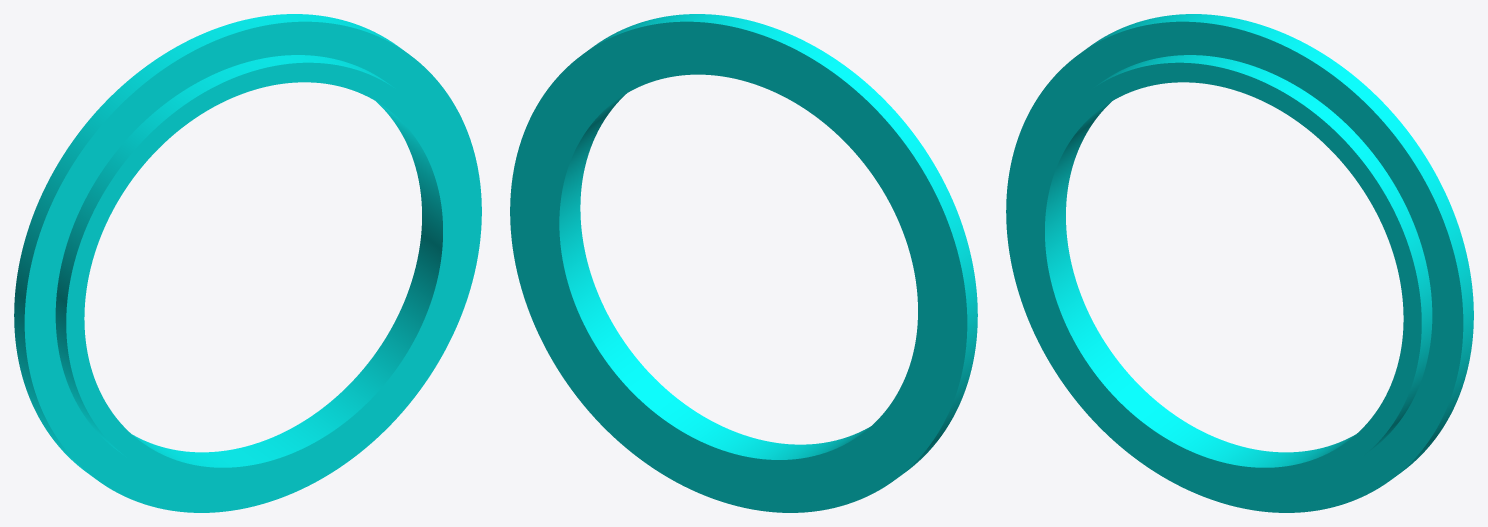
File: V5_One Inch Lens Mount Cover (V5).obj
The picture shows the model from 3 angles, left to right: view 1: azimuth 30°, elevation 25°; view 2: azimuth 150°, elevation 25°; view 3: azimuth 330°, elevation 25°; orthographic projection.
Parts seen in each view (by area): view 1: Solid1:16; view 2: Solid1:16; view 3: Solid1:16.
Boxes of the visible parts, x1,y1,x2,y2 form: Solid1:16: (14, 14, 481, 512); Solid1:16: (510, 14, 977, 512); Solid1:16: (1006, 14, 1473, 512).
Bounding box in the file's own units: 31.32 × 31.32 × 2.5.
